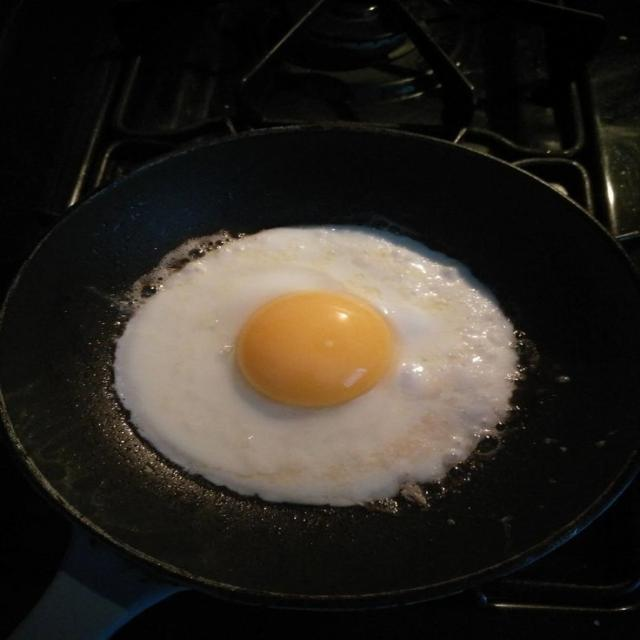fryed egg: (115, 227, 516, 505)
